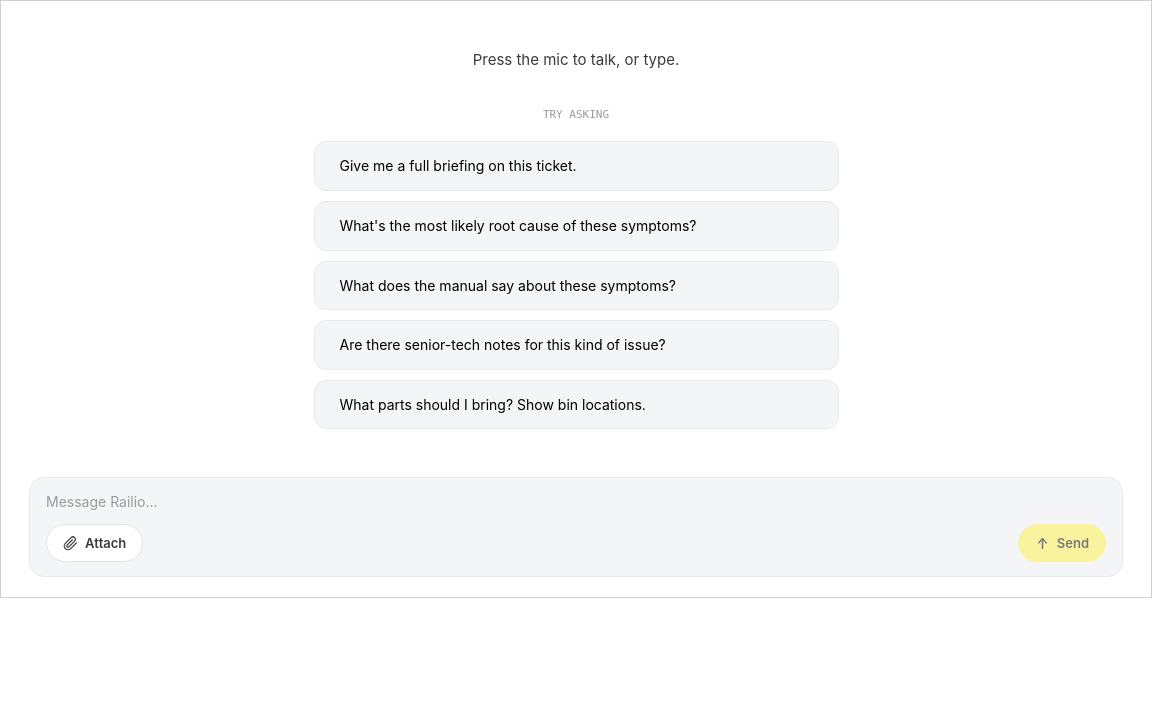
ChatPane streaming › renders the user's message and the streamed reply
Step 1. Type "hello" into the text box with placeholder "Message Railio…" → (576, 502), box [46,492,1106,512]
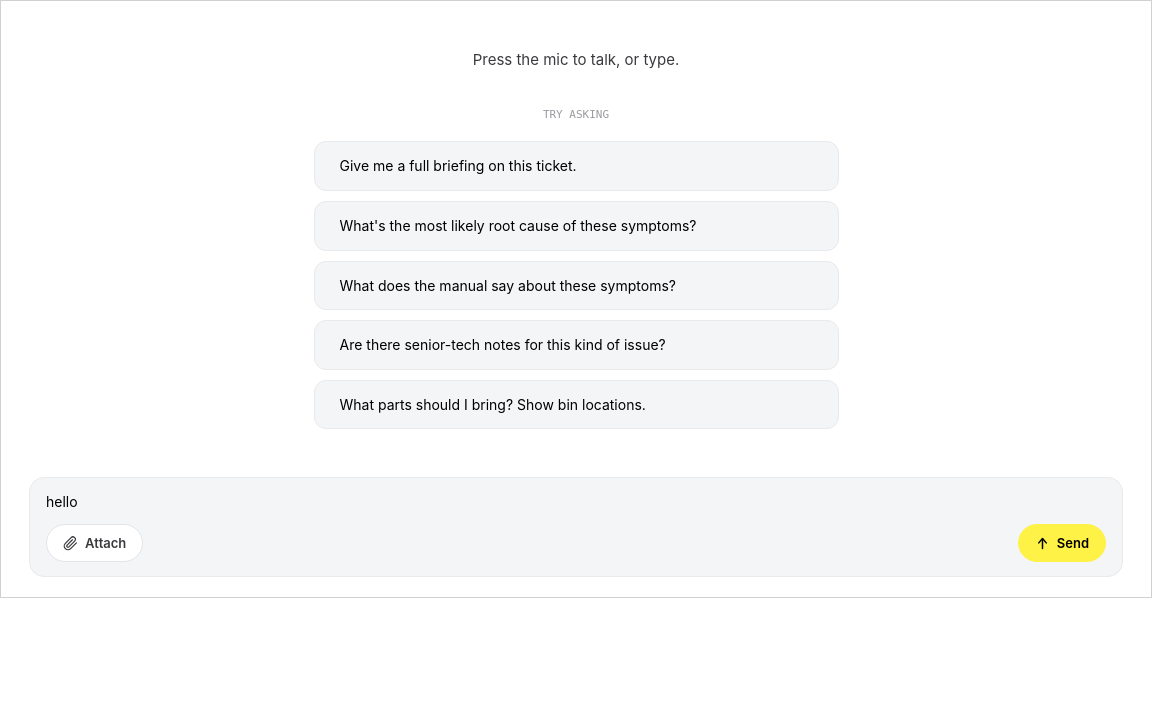
Step 2. Click the button labelled "Send" → (1062, 543), box [1018,524,1106,562]
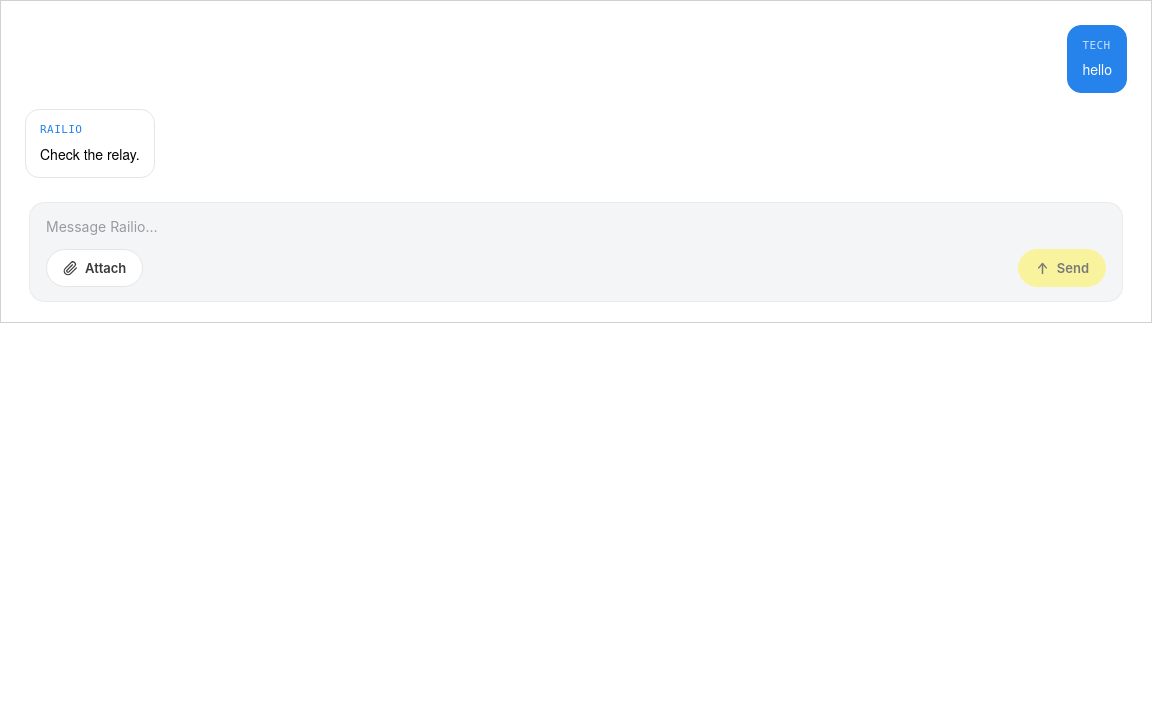
Now the text "hello" is shown, box [1082,59,1112,80]
Now the text "Check the relay." is shown, box [40,144,140,166]
